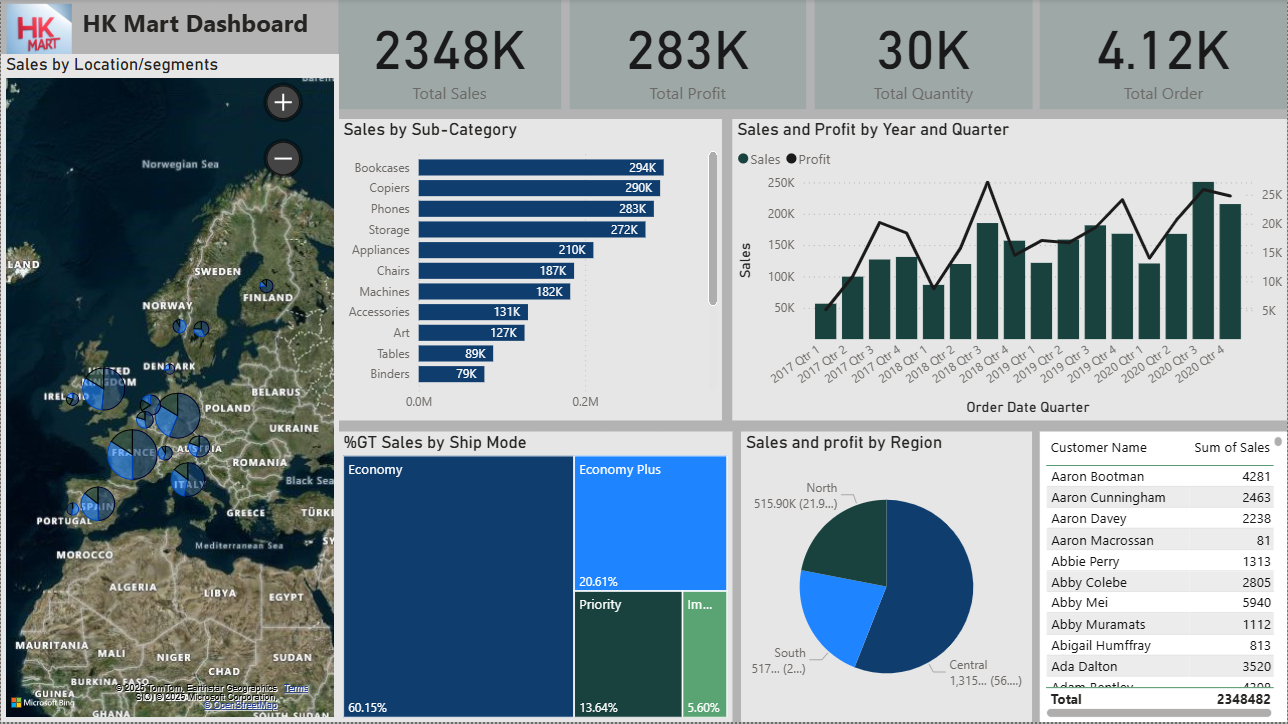

What the dashboard file says about the page in this screenshot:
{"tool":"powerbi","page":{"name":"Page 1","canvas":[1280,720],"ordinal":0},"visuals":[{"type":"tableEx","fields":{"Values":["List of Orders.Customer Name","Order Breakdown.Sales"]},"box":[1033.3,430.9,247,289.5],"z":0},{"type":"pieChart","title":" Sales and profit by Region","fields":{"Y":["Order Breakdown.Sales"],"Category":["List of Orders.Region"]},"box":[736.4,430.4,289.8,289.8],"z":1},{"type":"treemap","title":"%GT Sales by Ship Mode","fields":{"Values":["Order Breakdown.Sales"],"Group":["List of Orders.Ship Mode"]},"box":[335.9,430.4,391.8,289.8],"z":2},{"type":"clusteredBarChart","title":"Sales by Sub-Category","fields":{"Y":["Order Breakdown.Sales"],"Category":["Order Breakdown.Sub-Category"]},"box":[335.9,119.4,381.9,299.8],"z":3},{"type":"lineStackedColumnComboChart","fields":{"Y":["Order Breakdown.Sales"],"Y2":["Order Breakdown.Profit"],"Category":["List of Orders.Order Date.Variation.Date Hierarchy.Year","List of Orders.Order Date.Variation.Date Hierarchy.Quarter","List of Orders.Order Date.Variation.Date Hierarchy.Month","List of Orders.Order Date.Variation.Date Hierarchy.Day"]},"box":[727.7,119.4,552.3,299.8],"z":4},{"type":"card","fields":{"Values":["Order Breakdown.Sales"]},"box":[335.9,0,221.4,109.5],"z":5},{"type":"card","fields":{"Values":["Order Breakdown.Profit"]},"box":[566,0,235.1,109.5],"z":6},{"type":"card","fields":{"Values":["Order Breakdown.Quantity"]},"box":[809.8,0,216.4,109.5],"z":7},{"type":"card","fields":{"Values":["List of Orders.Order ID"]},"box":[1033.7,0,246.3,109.5],"z":8},{"type":"textbox","box":[75.9,2.5,251.3,42.3],"z":9},{"type":"image","box":[0,0,75.9,74.6],"z":10},{"type":"map","title":"Sales by Location/segments","fields":{"Category":["List of Orders.Country"],"Size":["Order Breakdown.Sales"],"Series":["List of Orders.Segment"]},"box":[0,260,327.2,460.3],"z":11}]}

Visuals, with their boxes in screenshot pixels (x1, y1, x2, y2), scaled from the page's 1280x720 canvas onto the 1288x724 screenshot:
tableEx - List of Orders.Customer Name x Order Breakdown.Sales: 1040 433 1287 723
" Sales and profit by Region" pieChart: 741 433 1033 723
"%GT Sales by Ship Mode" treemap: 338 433 732 723
"Sales by Sub-Category" clusteredBarChart: 338 120 722 422
lineStackedColumnComboChart - Order Breakdown.Sales x Order Breakdown.Profit: 732 120 1287 422
card - Order Breakdown.Sales: 338 0 561 110
card - Order Breakdown.Profit: 570 0 806 110
card - Order Breakdown.Quantity: 815 0 1033 110
card - List of Orders.Order ID: 1040 0 1287 110
textbox: 76 3 329 45
image: 0 0 76 75
"Sales by Location/segments" map: 0 261 329 723
